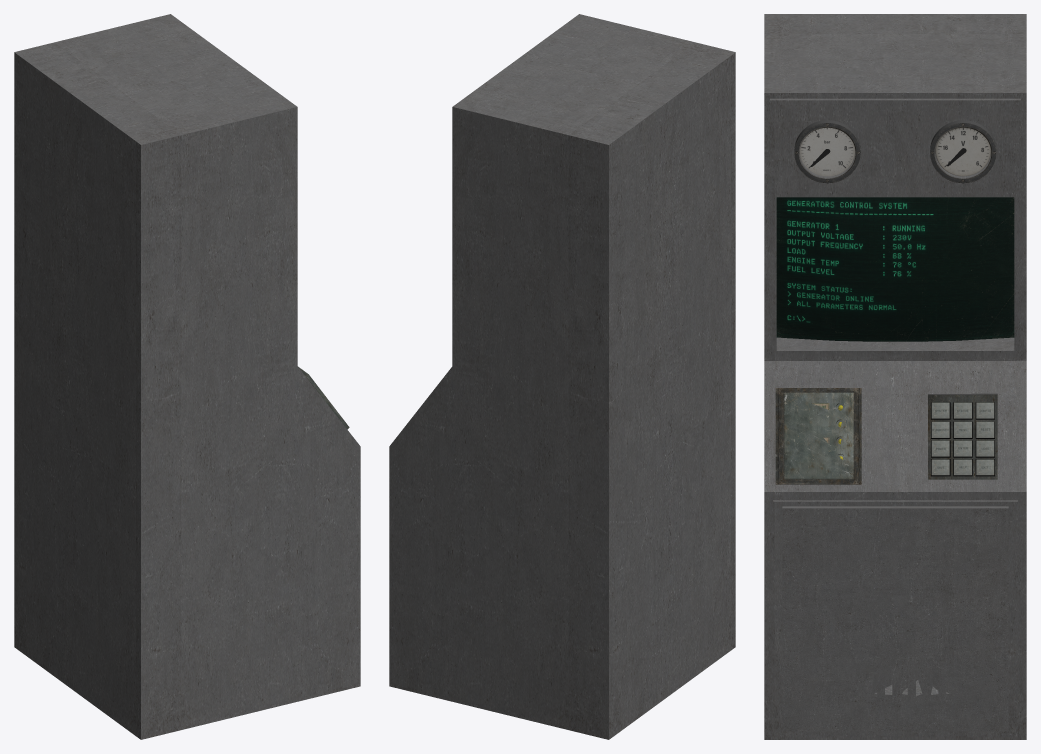
Rendered from WallComputer.fbx.
The picture shows the model from 3 angles, left to right: view 1: azimuth 30°, elevation 25°; view 2: azimuth 150°, elevation 25°; view 3: azimuth 270°, elevation 25°; orthographic projection. The views are drawn at different scales.
Visible parts, largest first — view 1: Base; view 2: Base; view 3: Base, VentCap, Cover, Manometr.001, Vmeter, Frame.
Part boxes in pixels (x1,y1,x2,y2): Base: (14,14,360,739); Base: (389,14,735,739); Base: (764,14,1026,739); VentCap: (782,506,1008,731); Cover: (784,392,853,479); Manometr.001: (794,120,860,183); Vmeter: (930,120,996,183); Frame: (775,388,861,484).
Bounding box in the file's own units: 79.84 × 200 × 77.3.
13 materials, 9 textured.
